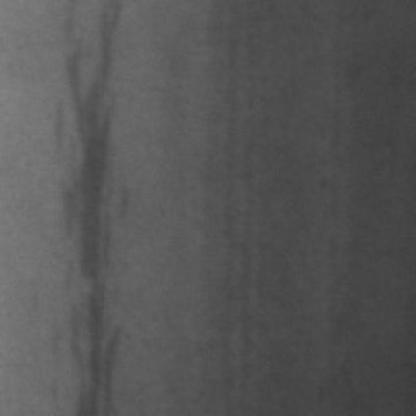inclusion: (52, 0, 131, 412)
